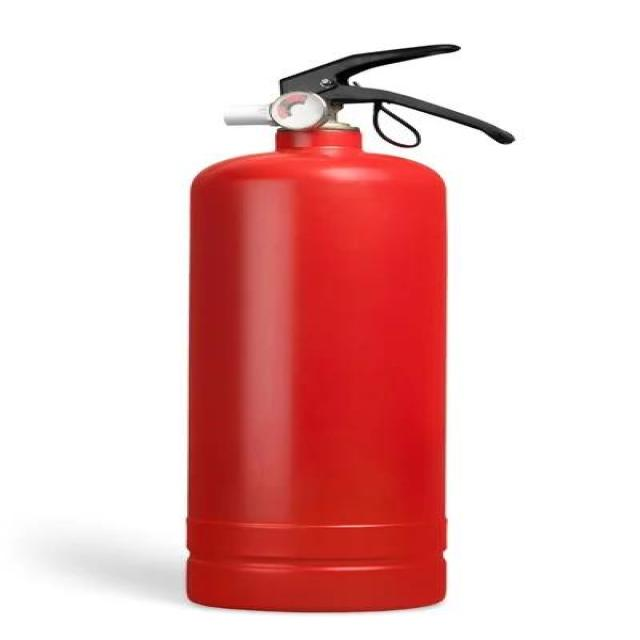fire_extinguisher: (171, 37, 525, 618)
